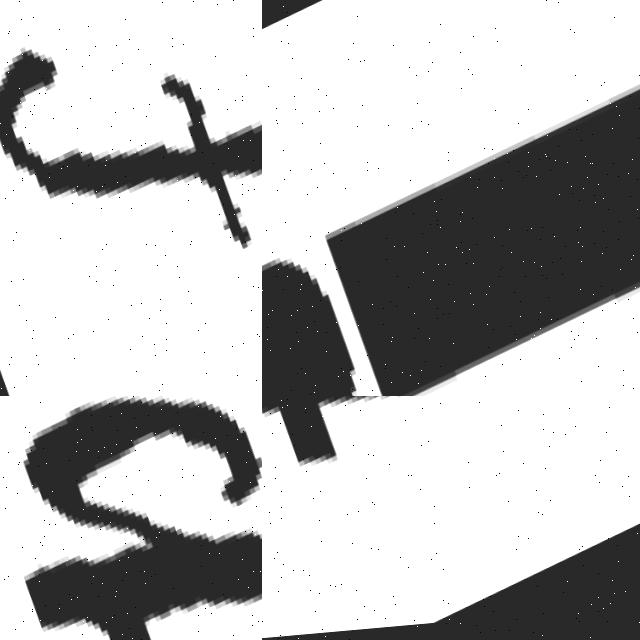F: (0, 45, 262, 255)
I: (262, 44, 640, 396)
P: (0, 396, 262, 640)
T: (262, 396, 640, 588)
